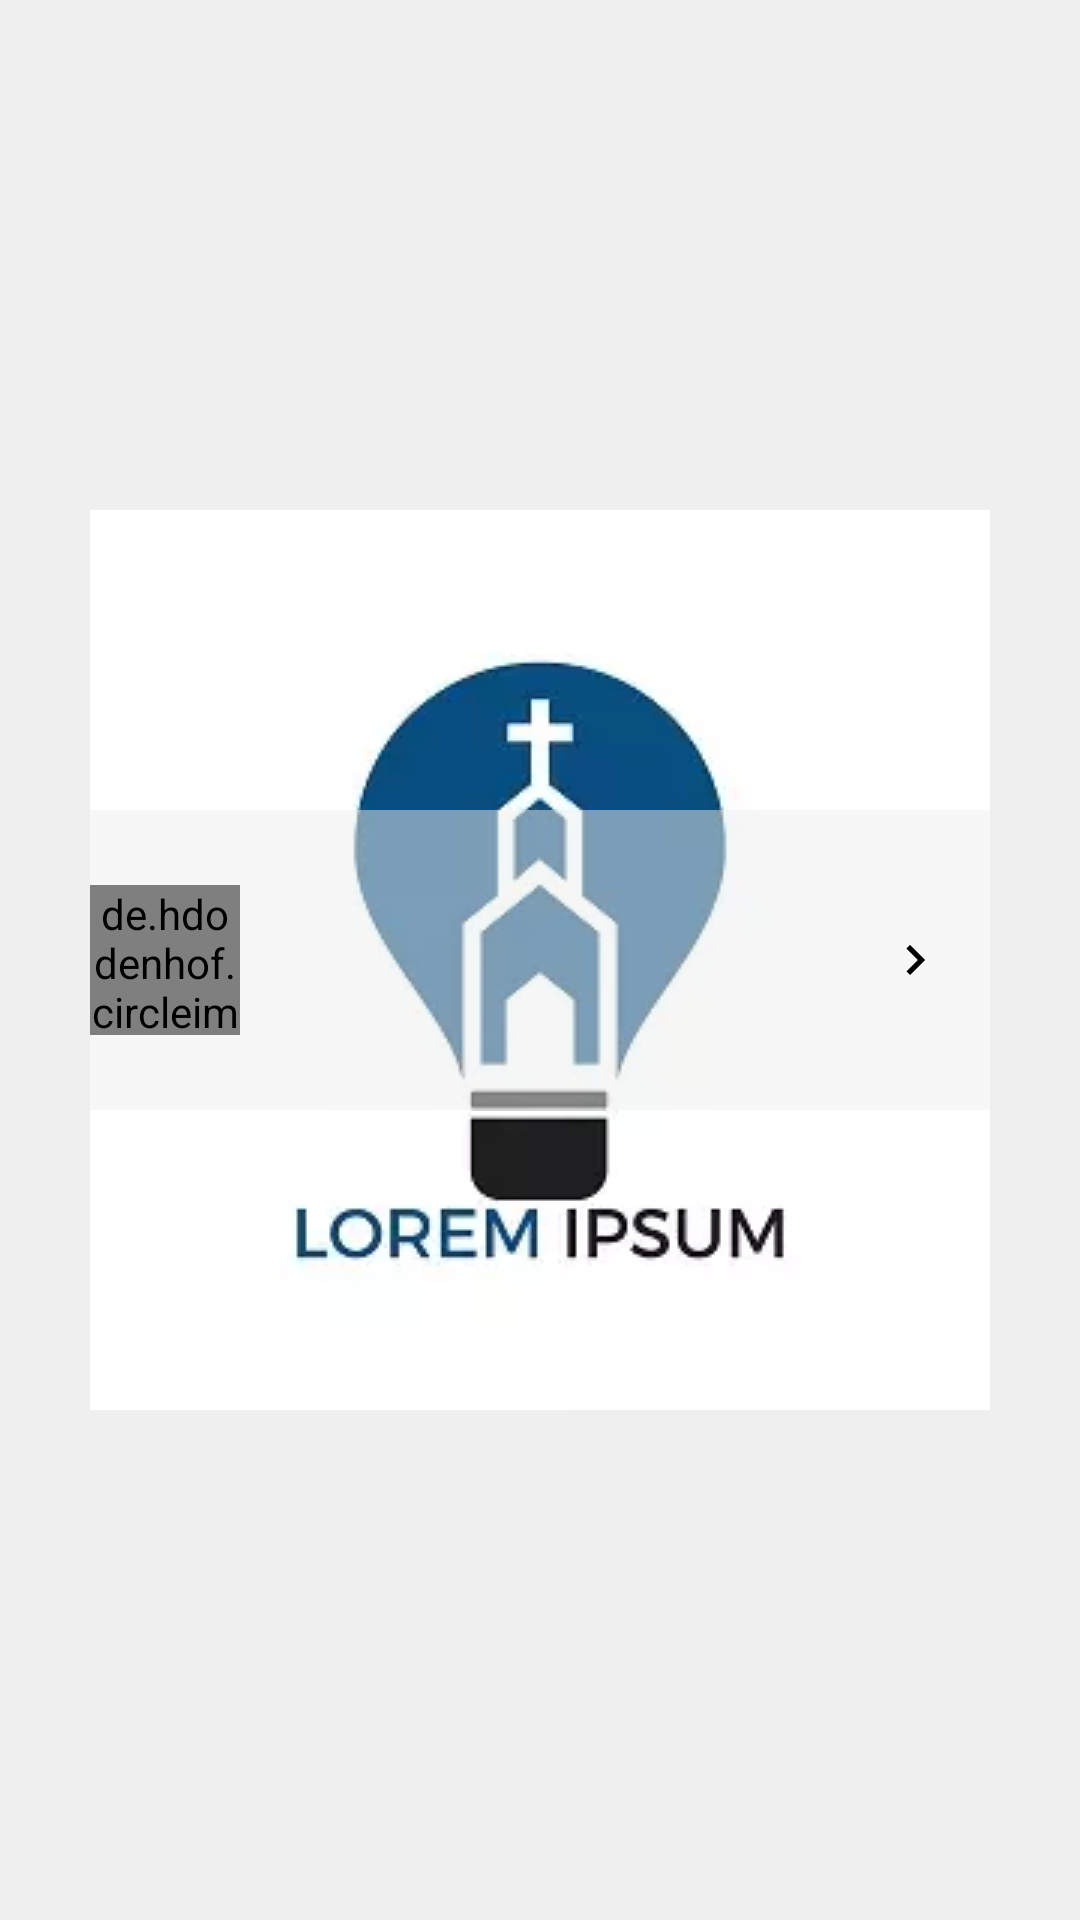

Named icons in this screenshot (1080×1920) and their bounding boxes, bbox=[x1, y1, x2, y2]:
keyboard arrow right: bbox=[906, 945, 925, 975]
